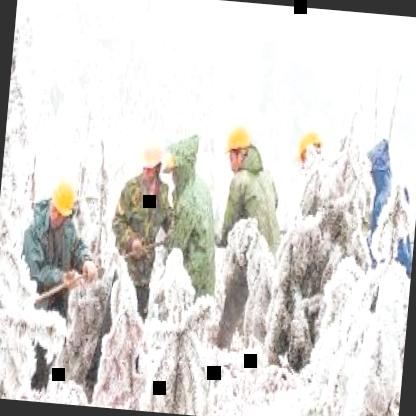helmet: (134, 130, 170, 186), (48, 170, 80, 231), (223, 118, 256, 175), (296, 124, 326, 171)
